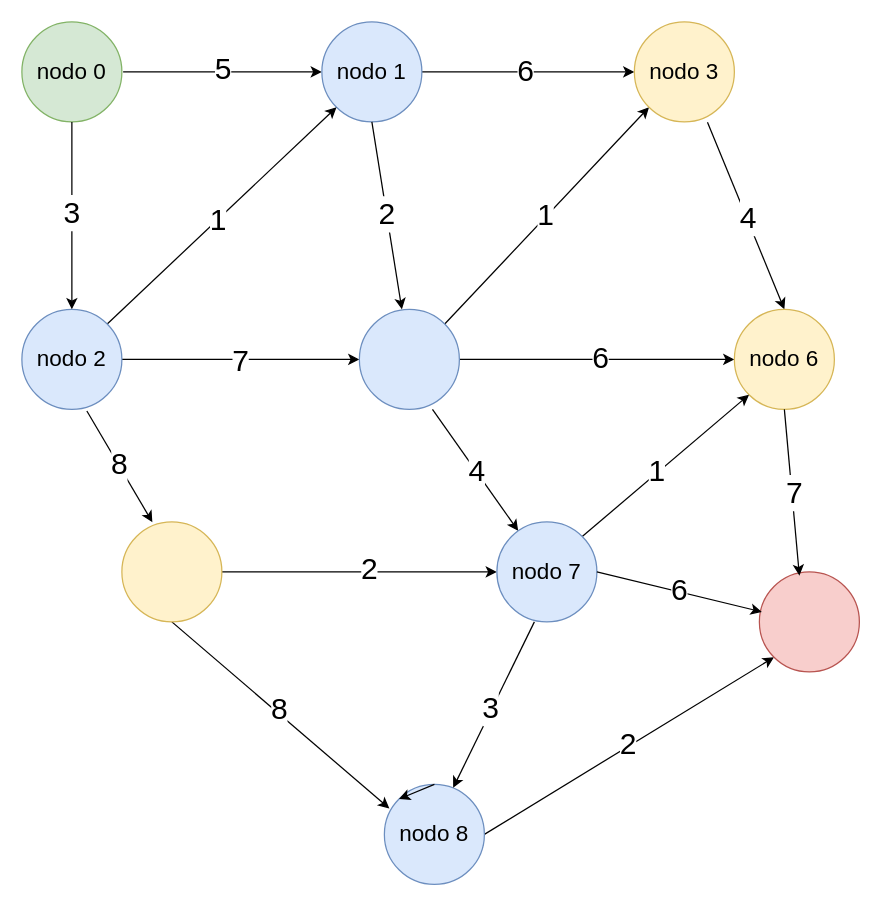
Some shapes in this 881 by 906 pixel diagram are drawn without their labels. Each missing label, with the centre of its shape:
"nodo 4" goes at point 408,358.
"nodo 5" goes at point 171,571.
"nodo 9" goes at point 808,621.
